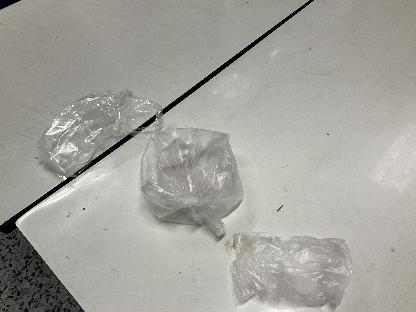Others: (31, 86, 166, 184), (138, 126, 250, 238), (226, 222, 358, 312)
